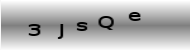3: (27, 23, 40, 36)
J: (56, 23, 63, 39)
Q: (98, 15, 114, 30)
e: (128, 11, 140, 21)
s: (75, 20, 87, 31)
